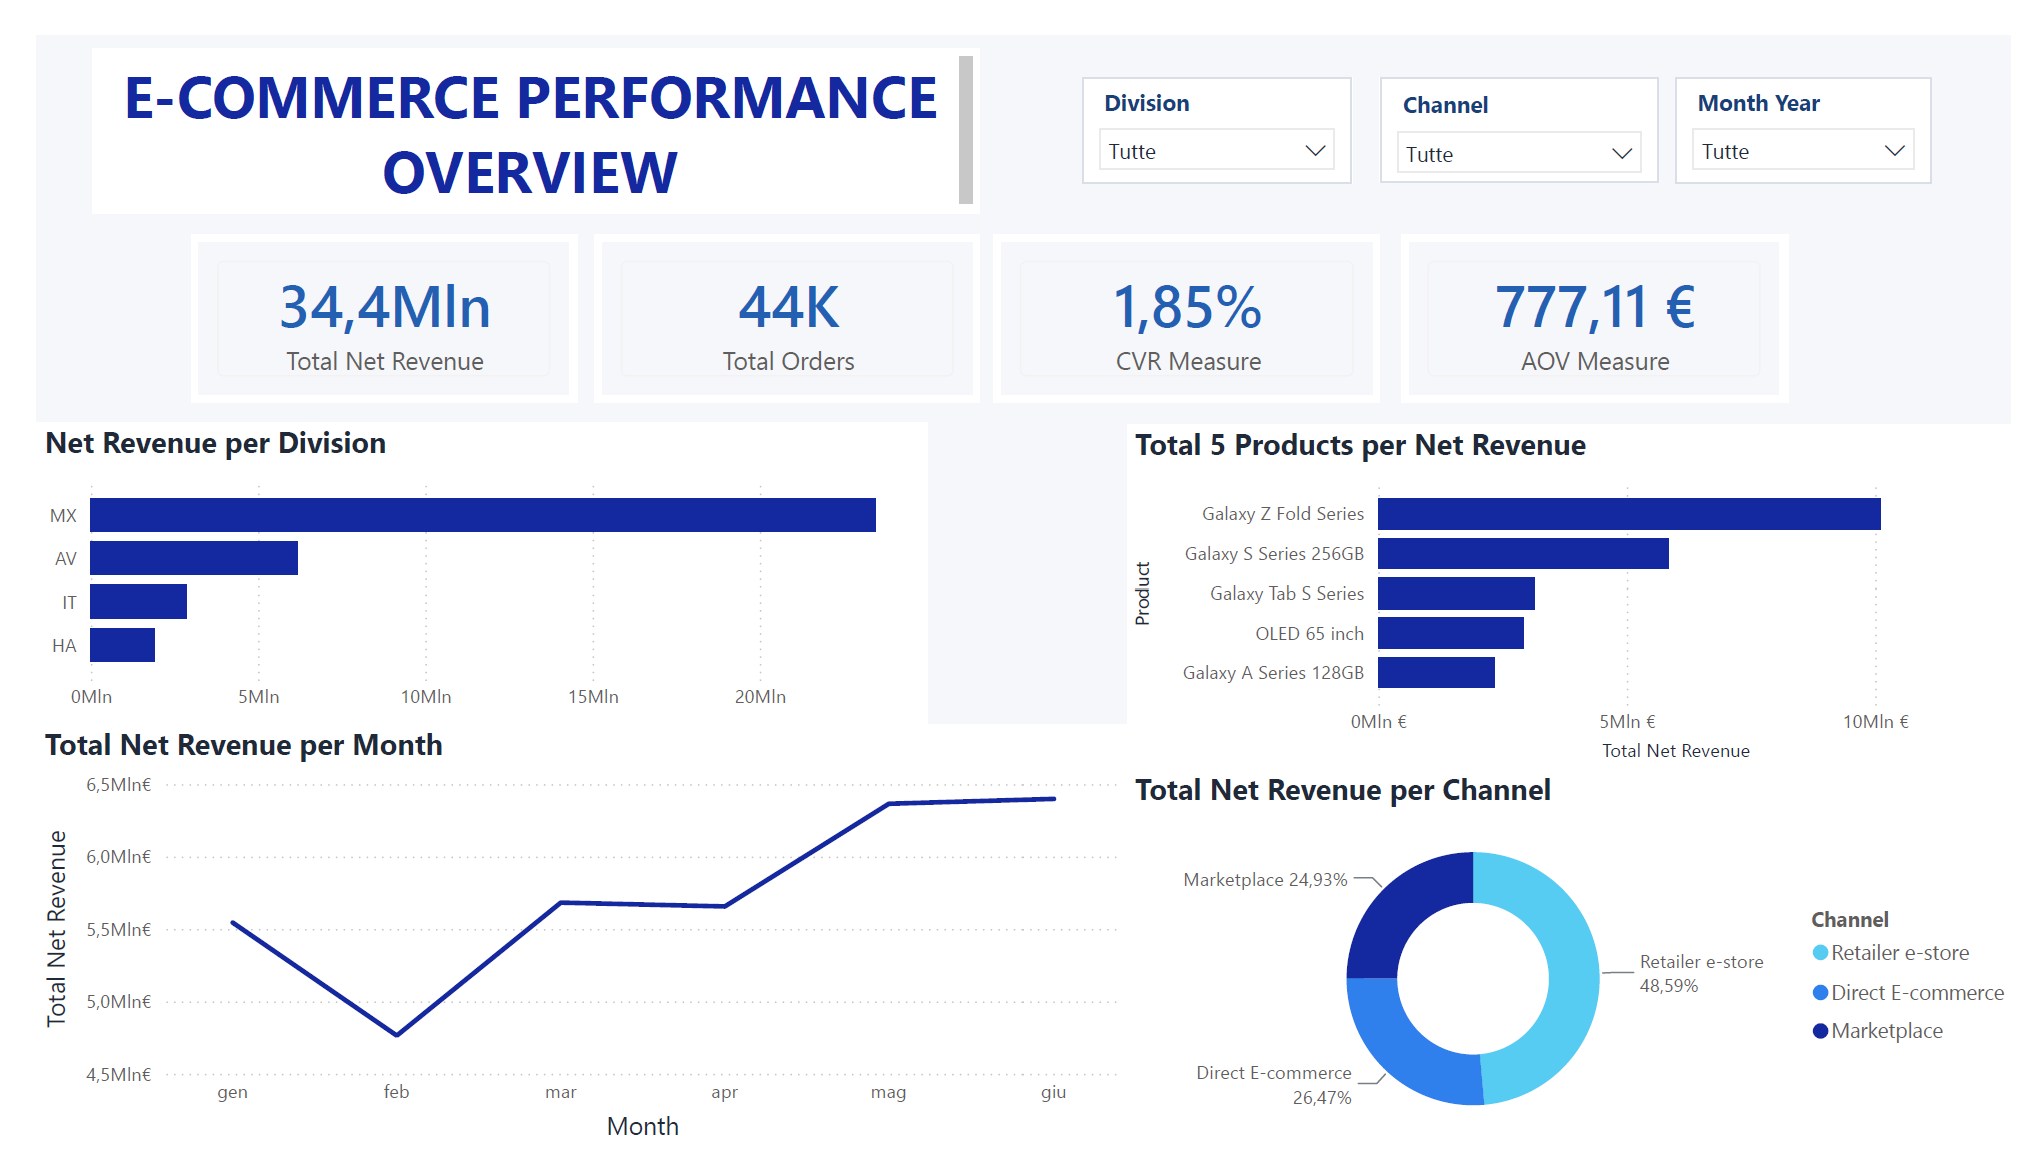

What the dashboard file says about the page in this screenshot:
{"tool":"powerbi","page":{"name":"E-commerce Overview","canvas":[1280,720],"ordinal":0},"visuals":[{"type":"clusteredBarChart","title":"Net Revenue per Division","fields":{"Category":["SalesDataTable.Division"],"Y":["Sum(SalesDataTable.Net Revenue)"]},"box":[0,251.2,577.5,195.1],"z":0},{"type":"donutChart","fields":{"Category":["SalesDataTable.Channel"],"Y":["SalesDataTable.Total Net Revenue"]},"box":[706.8,475.3,584.3,247.1],"z":1000},{"type":"slicer","fields":{"Values":["Calendar.Month Year"]},"box":[1063,27.4,165.8,68.5],"z":2000},{"type":"slicer","fields":{"Values":["SalesDataTable.Division"]},"box":[678.1,27.4,175.3,68.5],"z":3000},{"type":"slicer","fields":{"Values":["SalesDataTable.Channel"]},"box":[871.2,27.4,180.8,67.1],"z":4000},{"type":"textbox","box":[35.6,8.2,576.7,106.8],"z":5000},{"type":"lineChart","fields":{"Category":["Calendar.Year Gerarchia.Date","Calendar.Year Gerarchia.Month"],"Y":["SalesDataTable.Total Net Revenue"]},"box":[0,446.3,706.8,274.9],"z":6000},{"type":"barChart","title":"Total 5 Products per Net Revenue","fields":{"Category":["SalesDataTable.Product"],"Y":["SalesDataTable.Total Net Revenue"]},"box":[706.8,251.5,577.7,223.7],"z":8000},{"type":"cardVisual","fields":{"Data":["SalesDataTable.Total Net Revenue"]},"box":[100,128.8,250.7,109.6],"z":9000},{"type":"cardVisual","fields":{"Data":["SalesDataTable.Total Orders"]},"box":[361.6,128.8,250.7,109.6],"z":10000},{"type":"cardVisual","fields":{"Data":["SalesDataTable.CVR Measure"]},"box":[620.5,128.8,250.7,109.6],"z":11000},{"type":"cardVisual","fields":{"Data":["SalesDataTable.AOV Measure"]},"box":[884.9,128.8,250.7,109.6],"z":12000}]}

Visuals, with their boxes in screenshot pixels (x1, y1, x2, y2), scaled from the page's 1280x720 canvas onto the 2038x1174 screenshot:
"Net Revenue per Division" clusteredBarChart: rect(0, 410, 919, 728)
donutChart - SalesDataTable.Channel x SalesDataTable.Total Net Revenue: rect(1125, 775, 2037, 1173)
slicer - Calendar.Month Year: rect(1692, 45, 1956, 156)
slicer - SalesDataTable.Division: rect(1080, 45, 1359, 156)
slicer - SalesDataTable.Channel: rect(1387, 45, 1675, 154)
textbox: rect(57, 13, 975, 188)
lineChart - Calendar.Year Gerarchia.Date x Calendar.Year Gerarchia.Month: rect(0, 728, 1125, 1173)
"Total 5 Products per Net Revenue" barChart: rect(1125, 410, 2037, 775)
cardVisual - SalesDataTable.Total Net Revenue: rect(159, 210, 558, 389)
cardVisual - SalesDataTable.Total Orders: rect(576, 210, 975, 389)
cardVisual - SalesDataTable.CVR Measure: rect(988, 210, 1387, 389)
cardVisual - SalesDataTable.AOV Measure: rect(1409, 210, 1808, 389)
